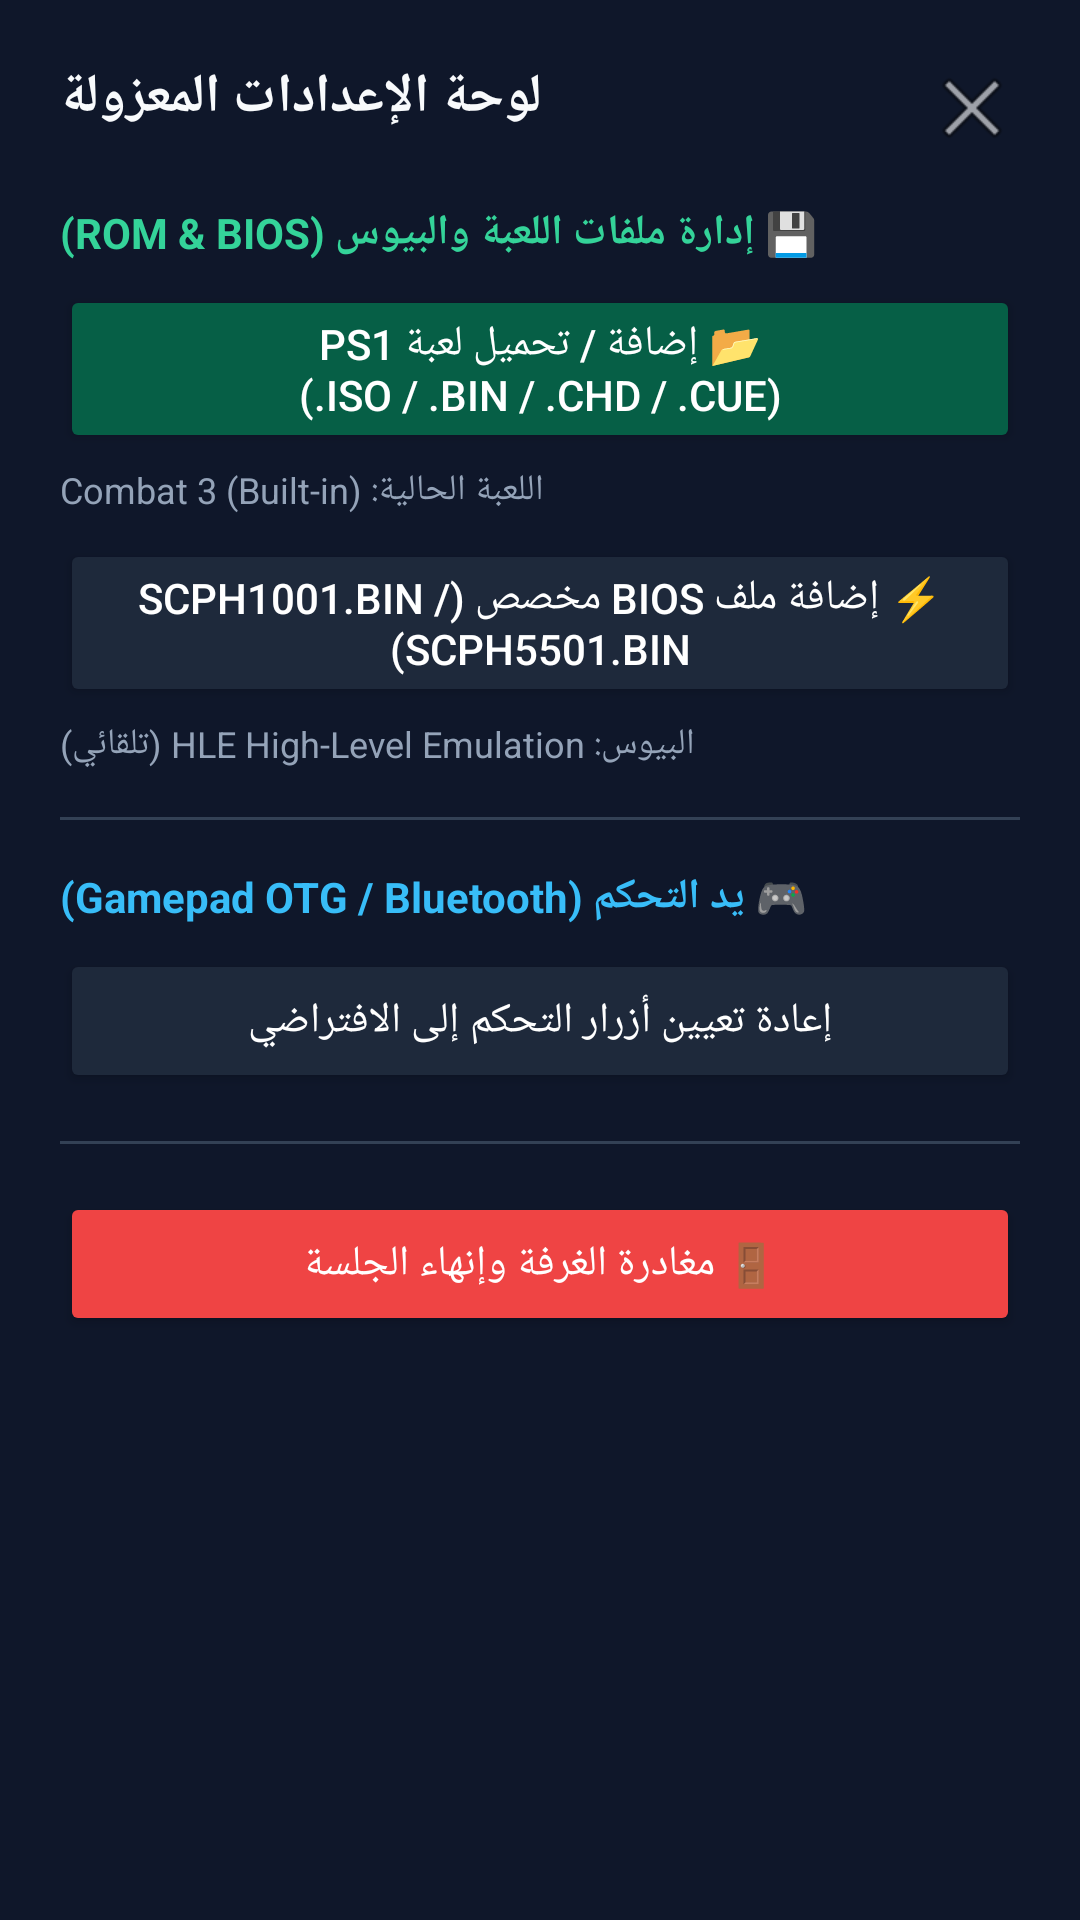

Screen size 1080w x 1920h. Icon name, then its box in pixels as (x1, y1, x2, y2):
close clear cancel: (945, 81, 999, 135)
